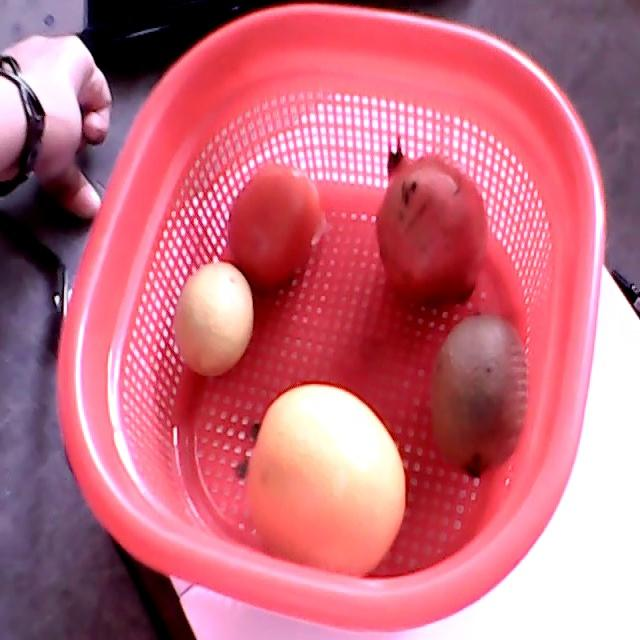kiwi: (431, 316, 529, 478)
lemon: (173, 263, 254, 376)
orange: (236, 383, 405, 577)
pomegranate: (376, 138, 489, 308)
tomato: (230, 163, 322, 293)
